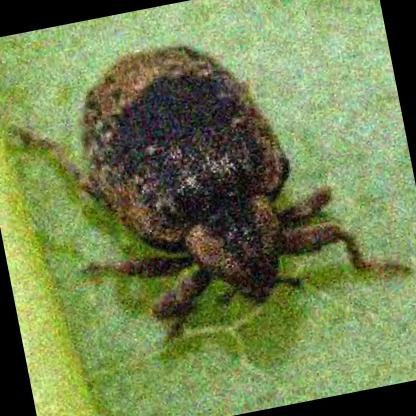ash weevil: (73, 45, 368, 312)
